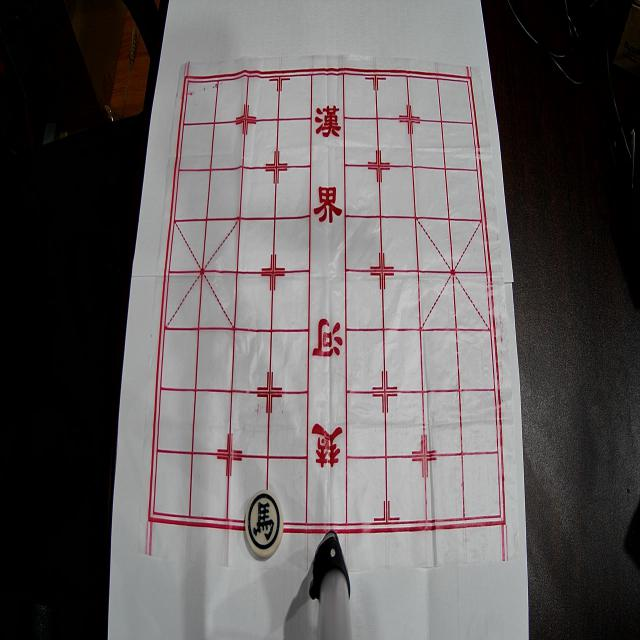black-horse: (245, 489, 283, 558)
